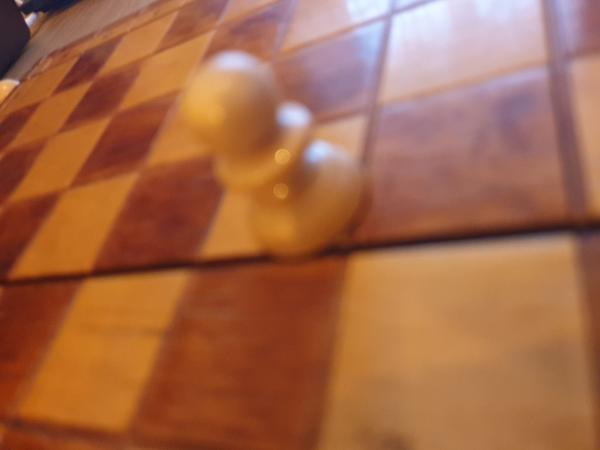wpawn: (175, 51, 366, 260)
